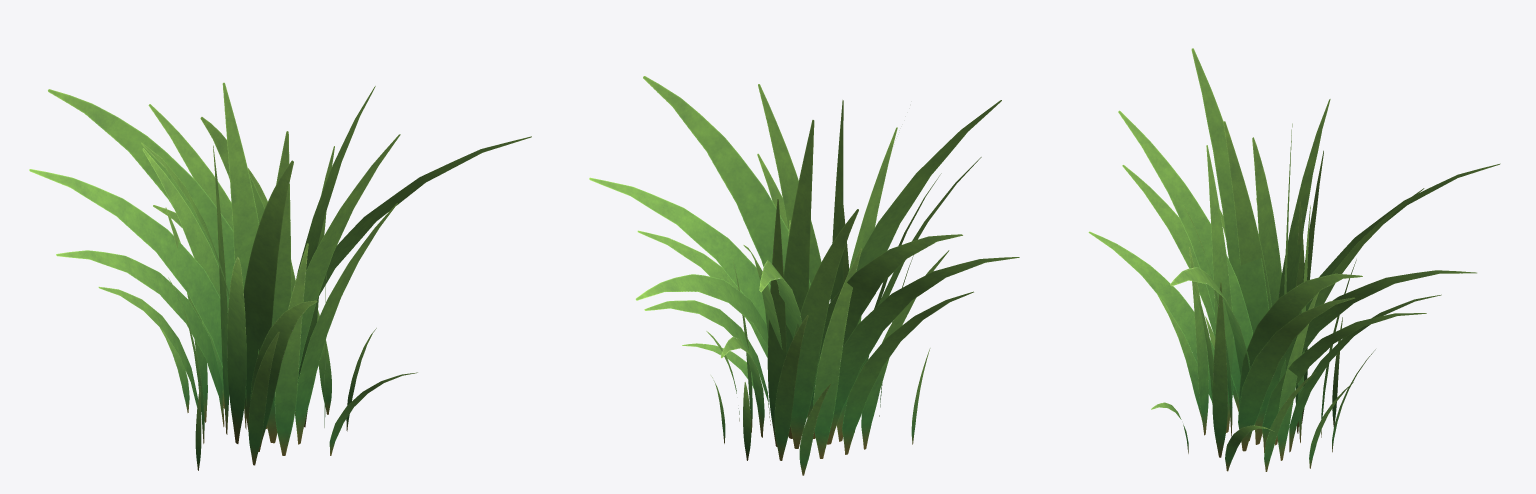
File: grass_clump_001.fbx
The picture shows the model from 3 angles, left to right: view 1: azimuth 30°, elevation 25°; view 2: azimuth 150°, elevation 25°; view 3: azimuth 270°, elevation 25°; orthographic projection. The views are drawn at different scales.
Parts seen in each view (by area): view 1: grass_clump_LOD0; view 2: grass_clump_LOD0; view 3: grass_clump_LOD0.
Boxes of the visible parts, x1=… form: grass_clump_LOD0: x1=29, y1=82, x2=531, y2=470; grass_clump_LOD0: x1=589, y1=76, x2=1019, y2=475; grass_clump_LOD0: x1=1088, y1=48, x2=1500, y2=471.
Size of what is drawn, in the model's own units: 0.889 by 0.7279 by 0.8207.
